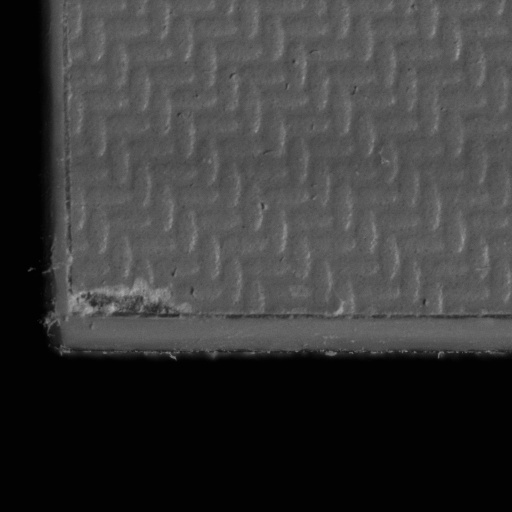bengque: (71, 283, 192, 321)
